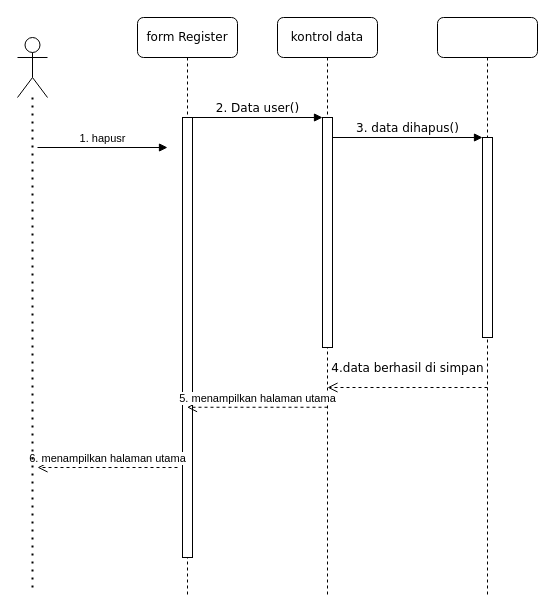
This 555x615 diagram has some shape labels left out. The shapes that lost their labels are listed below. From the top down, each one's box as (x1, y1, x2, y2) in pixels, then its label:
(16, 36, 48, 98): Actor
(436, 16, 538, 598): data user
